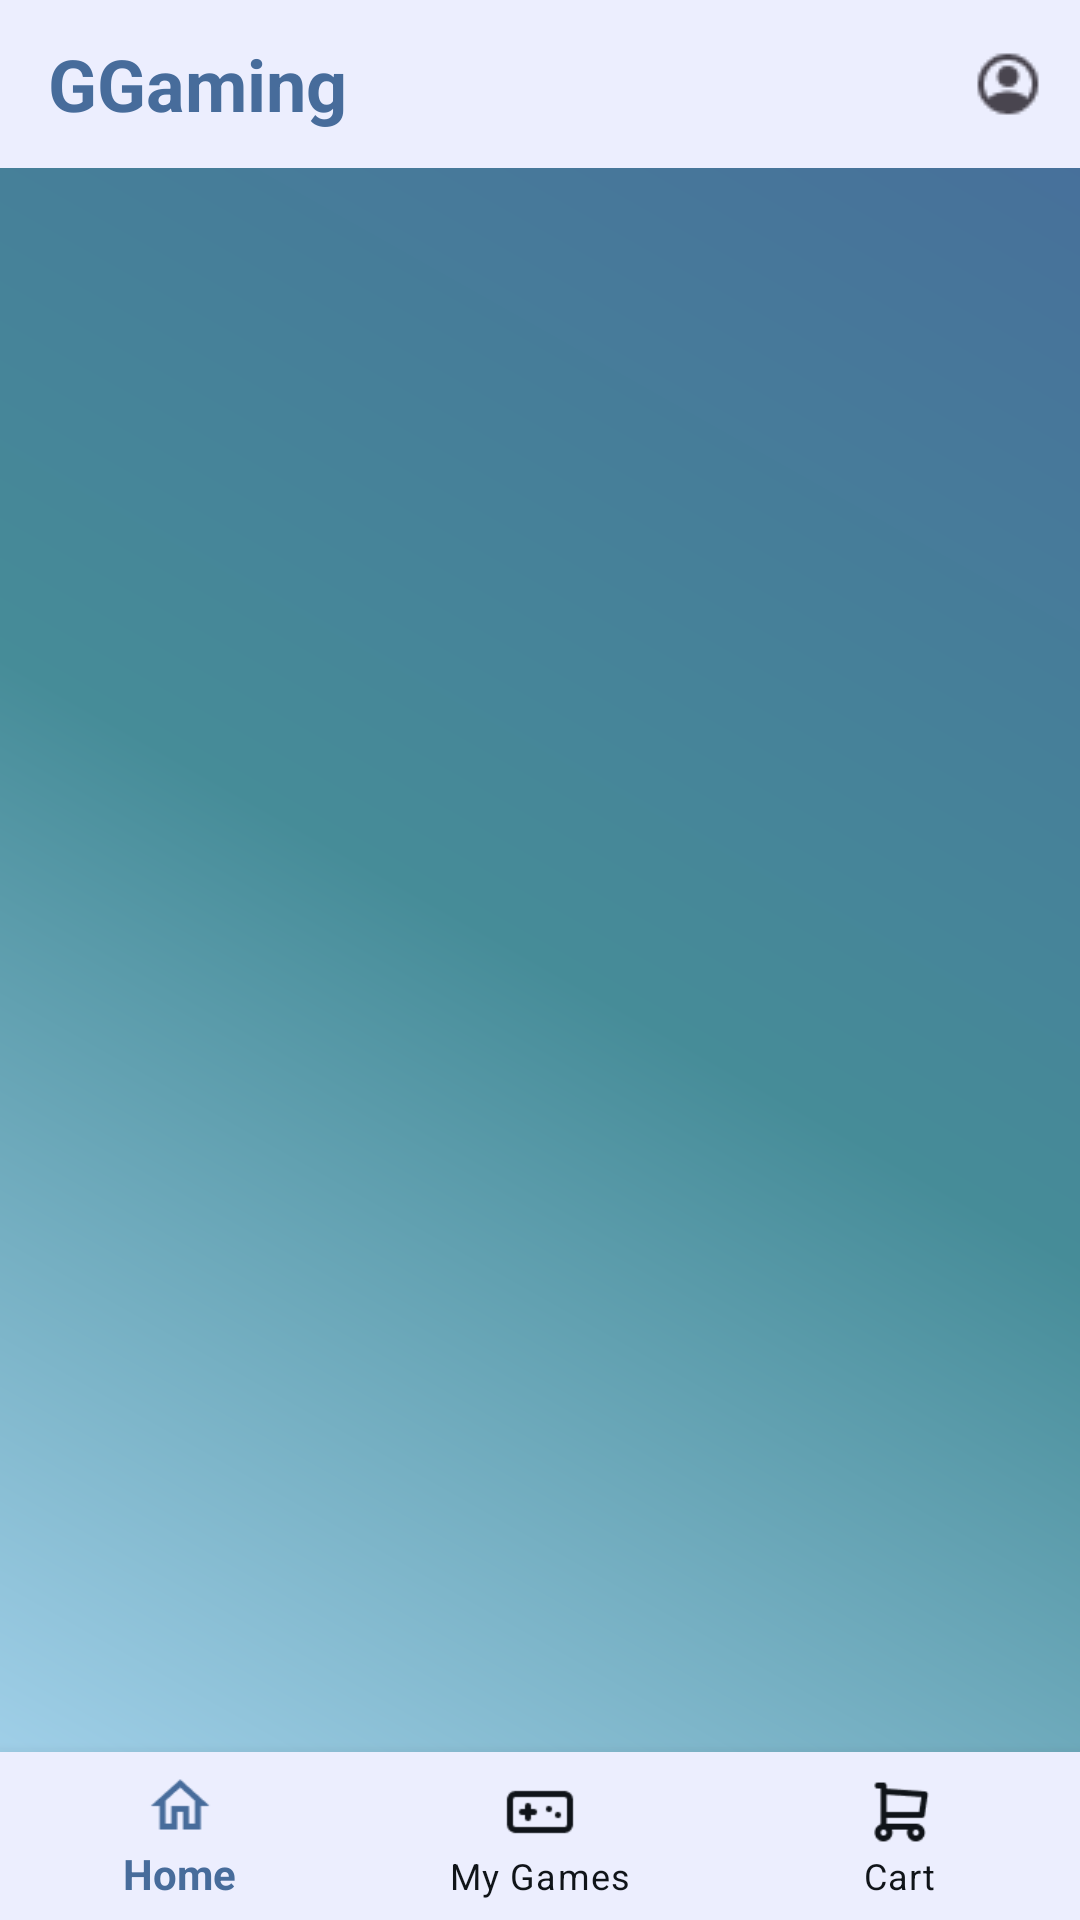

Locate icon controls on the screen. Image size 1080px×1920px, boxes as (x1, y1, x2, y2).
profile: (977, 53, 1039, 115)
